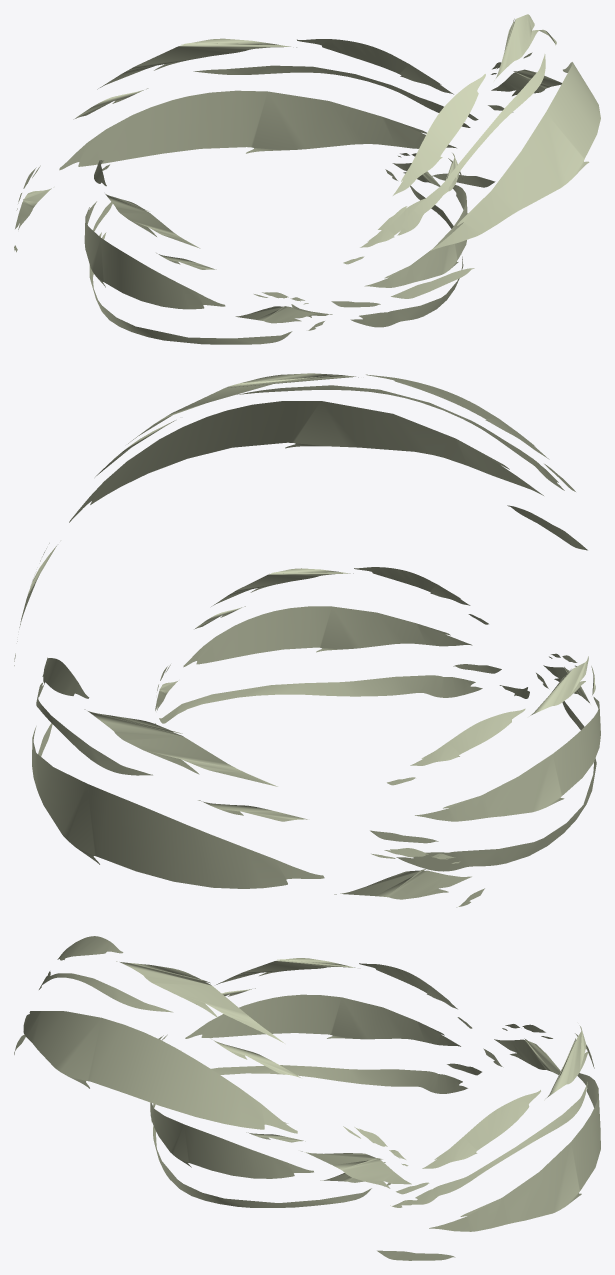
The model's file is level_sky.obj.
3 renders of one model, top to bottom at view 1: azimuth 30°, elevation 25°; view 2: azimuth 150°, elevation 25°; view 3: azimuth 270°, elevation 25°, orthographic. The views are drawn at different scales.
Parts seen in each view (by area): view 1: Clouds; view 2: Clouds; view 3: Clouds.
Boxes of the visible parts, bbox=[...] form: Clouds: bbox=[14, 14, 600, 344]; Clouds: bbox=[14, 373, 600, 907]; Clouds: bbox=[14, 936, 600, 1260].
Bounding box in the file's own units: 6.22 × 3.49 × 7.03.
